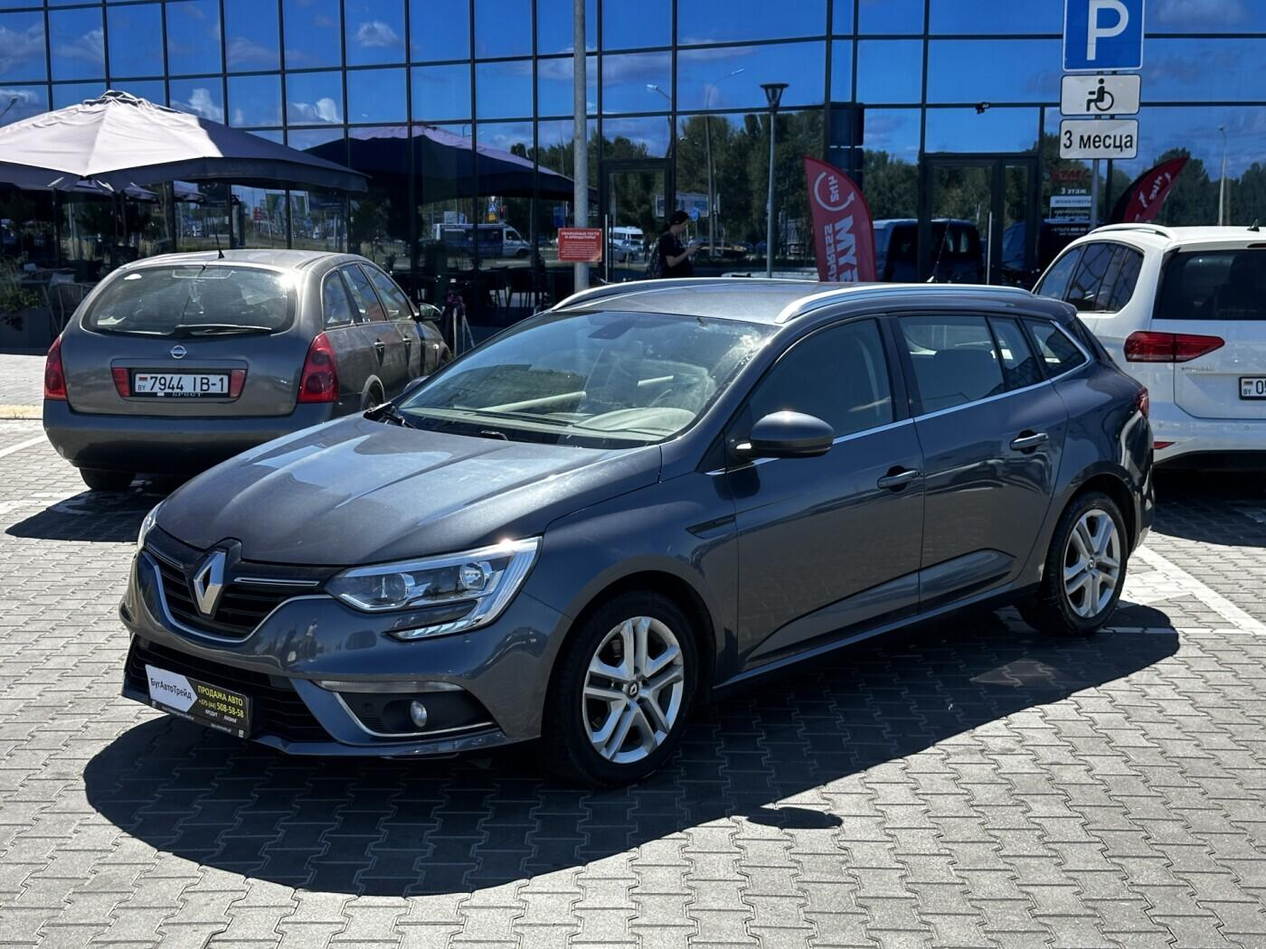Megane_2016-2020: (107, 270, 1170, 789)
